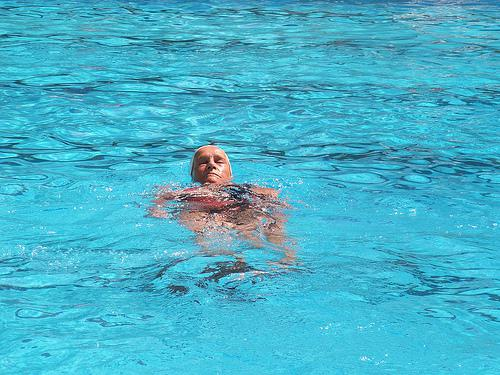swimmer: (154, 139, 288, 243)
